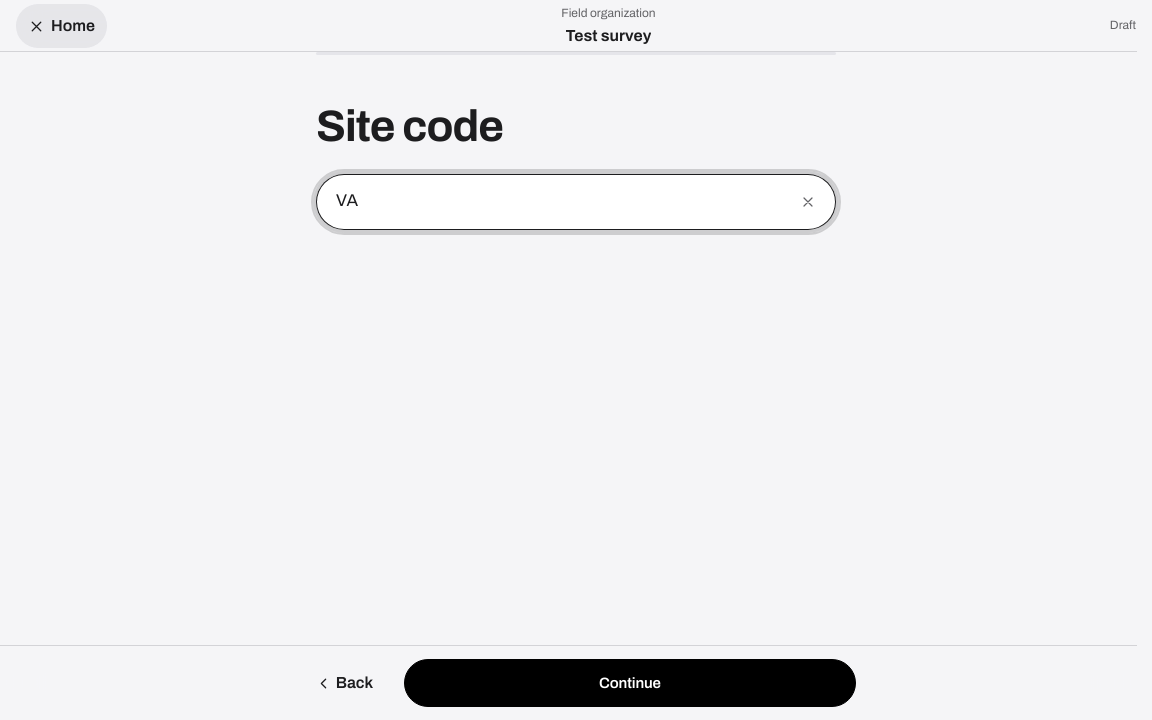
Test case: Collector guided flow (§10 client-side enforcement) › enforces text minLength
This screenshot has width=1152, height=720.
What coordinates should you click on to do the following:
click the 4th button
I would click on:
 (630, 683)
Its box is [404, 659, 856, 707].
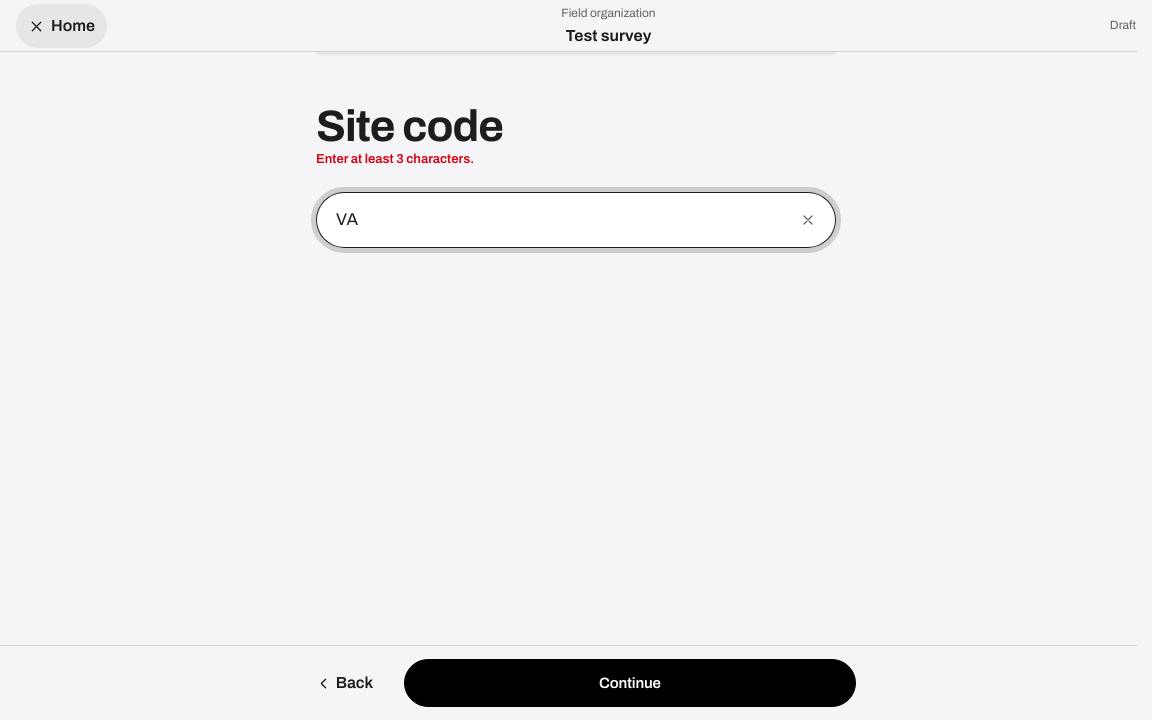
Check: the text "at least 3 characters" is shown, box [316, 152, 474, 166]
